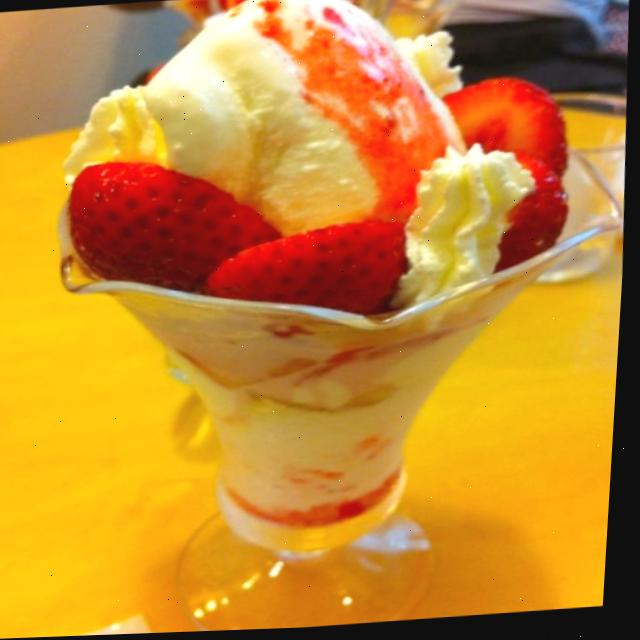蛋糕甜品: (19, 0, 636, 605)
